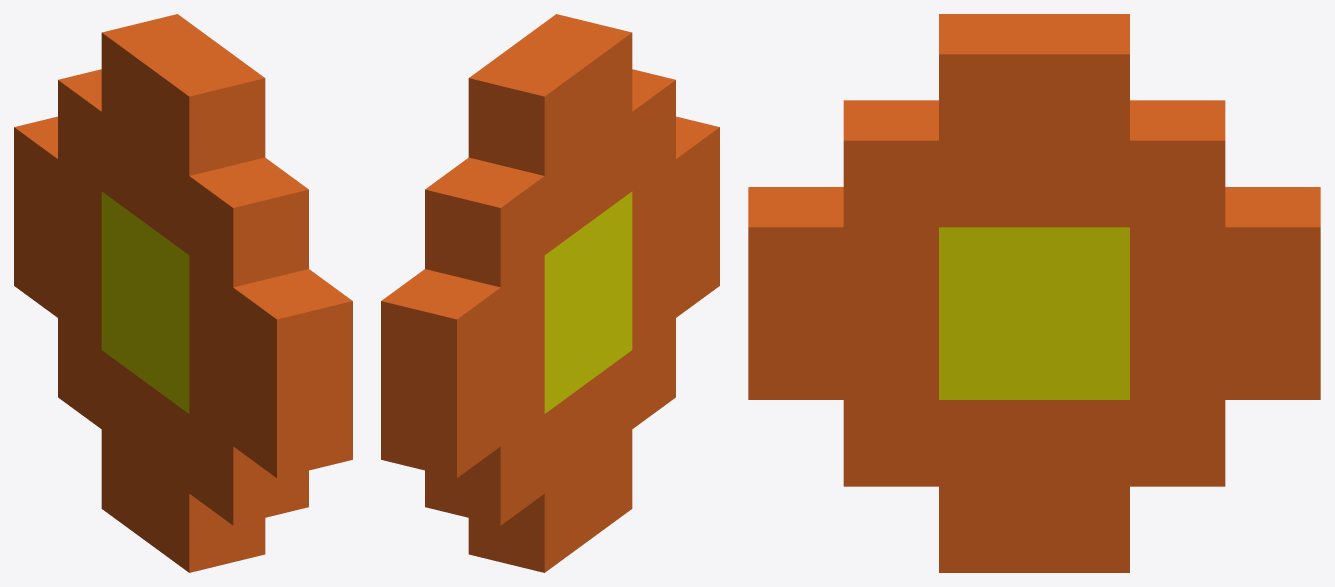
File: AA_Effect_PlayerShipExplosion2.fbx
The picture shows the model from 3 angles, left to right: view 1: azimuth 30°, elevation 25°; view 2: azimuth 150°, elevation 25°; view 3: azimuth 270°, elevation 25°; orthographic projection. The views are drawn at different scales.
Parts seen in each view (by area): view 1: Cube.077, Cube.112, Cube.110, Cube.047, Cube.018, Cube.049, Cube.076, Cube.107, Cube.117, Cube.114, Cube.051, Cube.115 (+12 smaller); view 2: Cube.076, Cube.117, Cube.107, Cube.042, Cube.019, Cube.052, Cube.077, Cube.110, Cube.112, Cube.115, Cube.050, Cube.116 (+12 smaller); view 3: Cube.110, Cube.107, Cube.117, Cube.112, Cube.077, Cube.076, Cube.109, Cube.108, Cube.116, Cube.115, Cube.114, Cube.113 (+12 smaller).
Boxes of the visible parts, bbox=[...] form: Cube.077: bbox=[145, 46, 265, 175]; Cube.112: bbox=[233, 269, 352, 398]; Cube.110: bbox=[189, 157, 308, 287]; Cube.047: bbox=[233, 367, 352, 478]; Cube.018: bbox=[145, 462, 265, 572]; Cube.049: bbox=[189, 414, 308, 525]; Cube.076: bbox=[101, 14, 220, 143]; Cube.107: bbox=[58, 69, 101, 190]; Cube.117: bbox=[14, 116, 57, 238]; Cube.114: bbox=[145, 224, 189, 334]; Cube.051: bbox=[101, 350, 145, 461]; Cube.115: bbox=[101, 191, 145, 302]; Cube.076: bbox=[468, 46, 588, 175]; Cube.117: bbox=[381, 269, 500, 398]; Cube.107: bbox=[425, 157, 544, 287]; Cube.042: bbox=[381, 367, 500, 478]; Cube.019: bbox=[468, 462, 588, 572]; Cube.052: bbox=[425, 414, 544, 525]; Cube.077: bbox=[513, 14, 632, 143]; Cube.110: bbox=[632, 69, 675, 190]; Cube.112: bbox=[676, 116, 719, 238]; Cube.115: bbox=[544, 224, 588, 334]; Cube.050: bbox=[588, 350, 632, 461]; Cube.116: bbox=[500, 255, 544, 366]; Cube.110: bbox=[843, 100, 938, 227]; Cube.107: bbox=[1130, 100, 1225, 227]; Cube.117: bbox=[1225, 187, 1320, 313]; Cube.112: bbox=[748, 187, 843, 313]; Cube.077: bbox=[939, 14, 1034, 140]; Cube.076: bbox=[1034, 14, 1129, 140]; Cube.109: bbox=[939, 140, 1034, 227]; Cube.108: bbox=[1034, 140, 1129, 227]; Cube.116: bbox=[1130, 227, 1225, 313]; Cube.115: bbox=[1034, 227, 1129, 313]; Cube.114: bbox=[939, 227, 1034, 313]; Cube.113: bbox=[843, 227, 938, 313].
Bounding box in the file's own units: 200 × 1200 × 1200.
